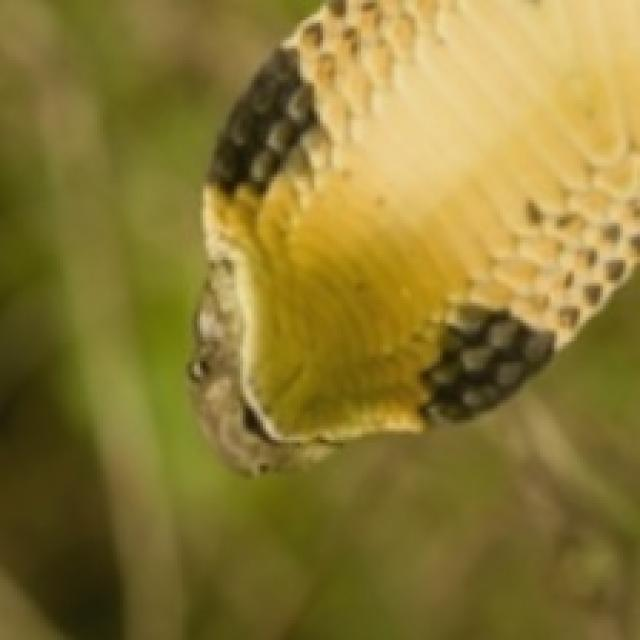king cobra: (191, 0, 637, 471)
